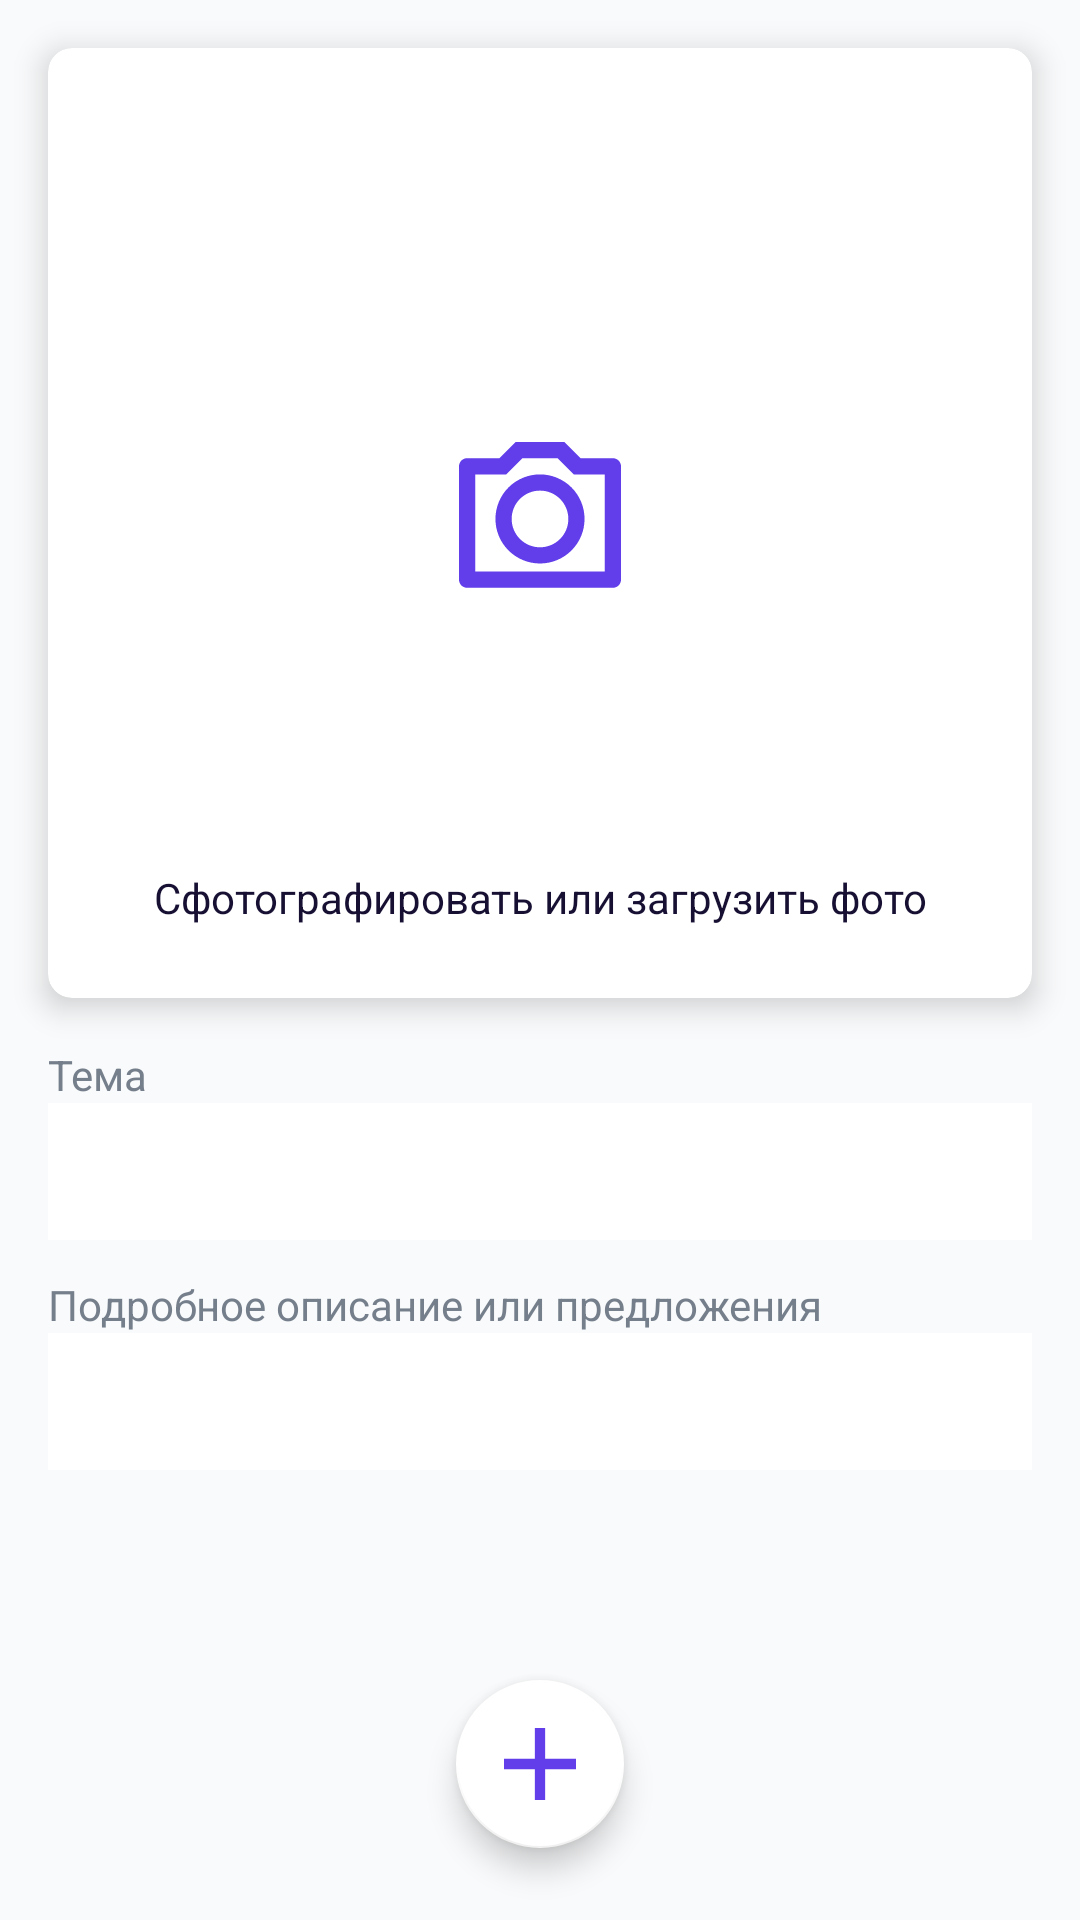

Point at icon controls on the screen. Image size 1080px x 1920px, points as (x=x, y=y).
photo: (x=540, y=515)
plus: (x=516, y=1764)
